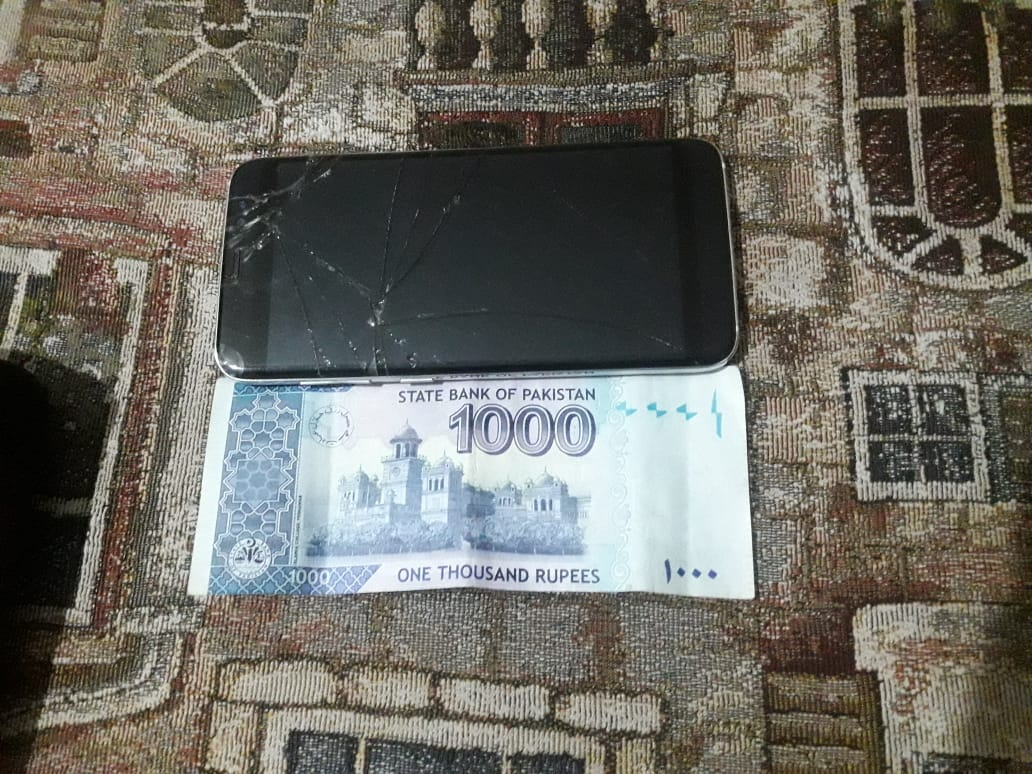1000 rupee: (183, 371, 775, 619)
